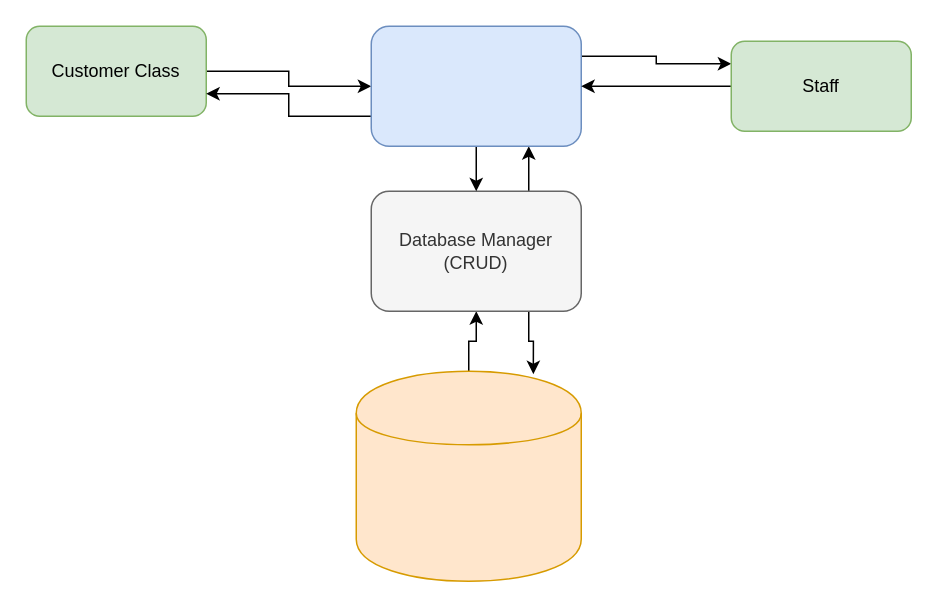
Some shapes in this 938 by 608 pixel diagram are drawn without their labels. Here are the shapes that lost their labels. From the top down, the centre of each, then its label:
At [475,85]: "Main".
At [468,475]: "Database".
